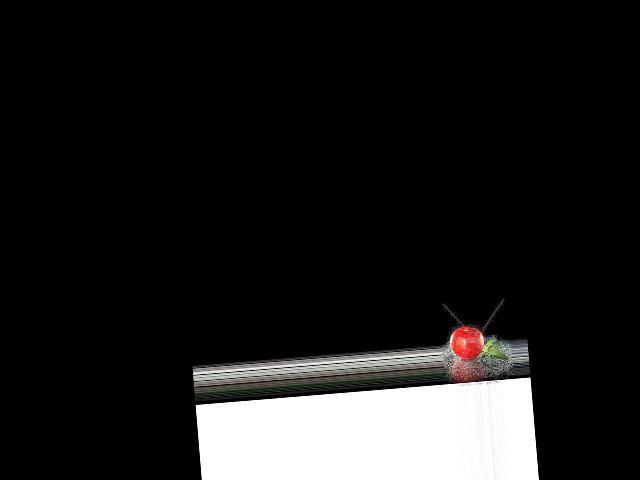tomato: (449, 325, 485, 359)
